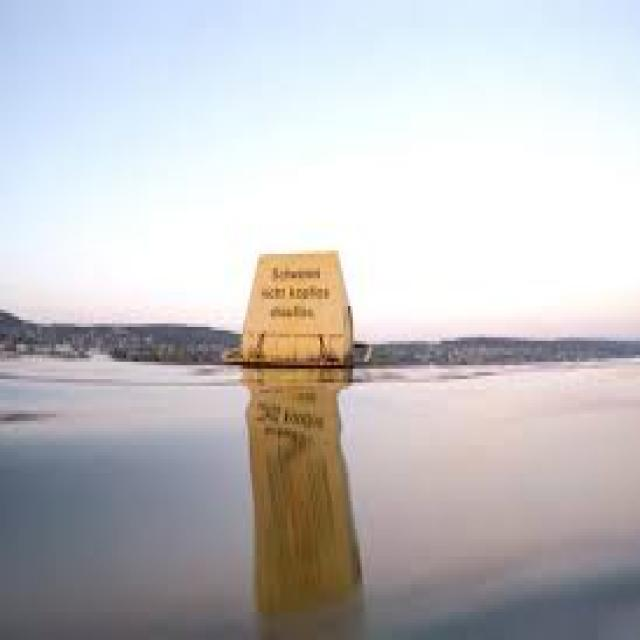buoy: (223, 226, 383, 402)
